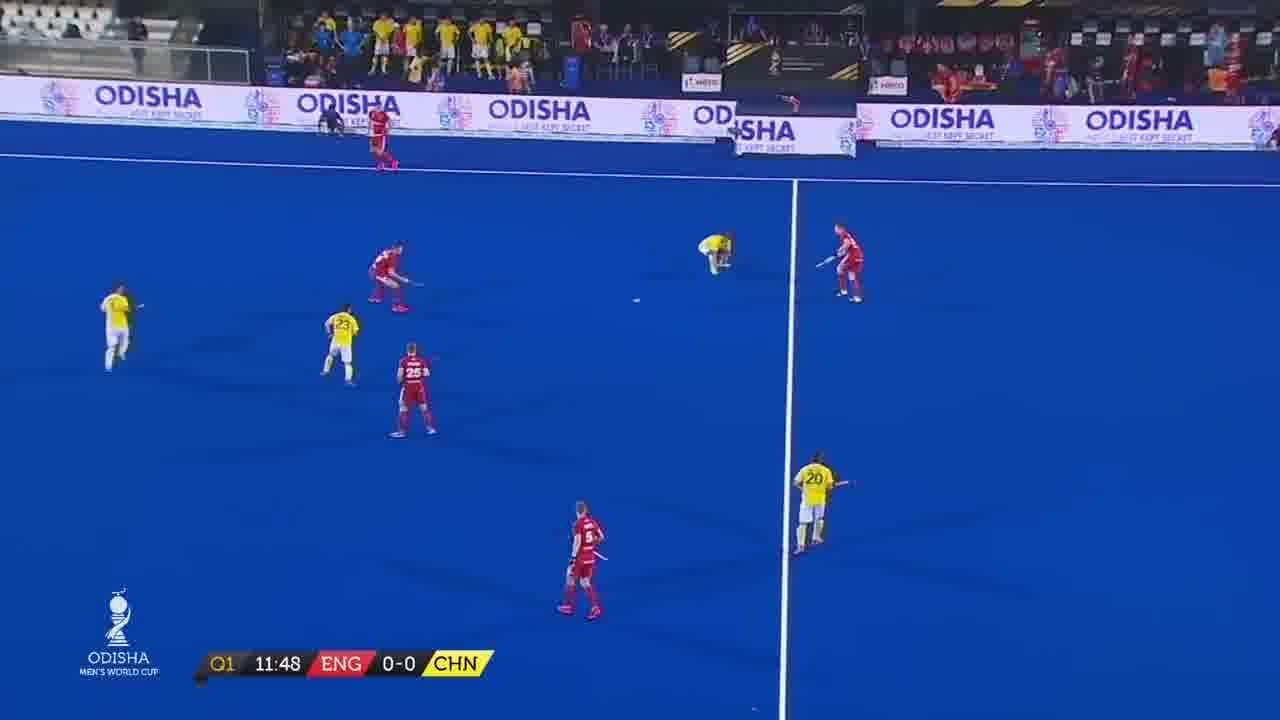ball: (628, 297, 642, 306)
